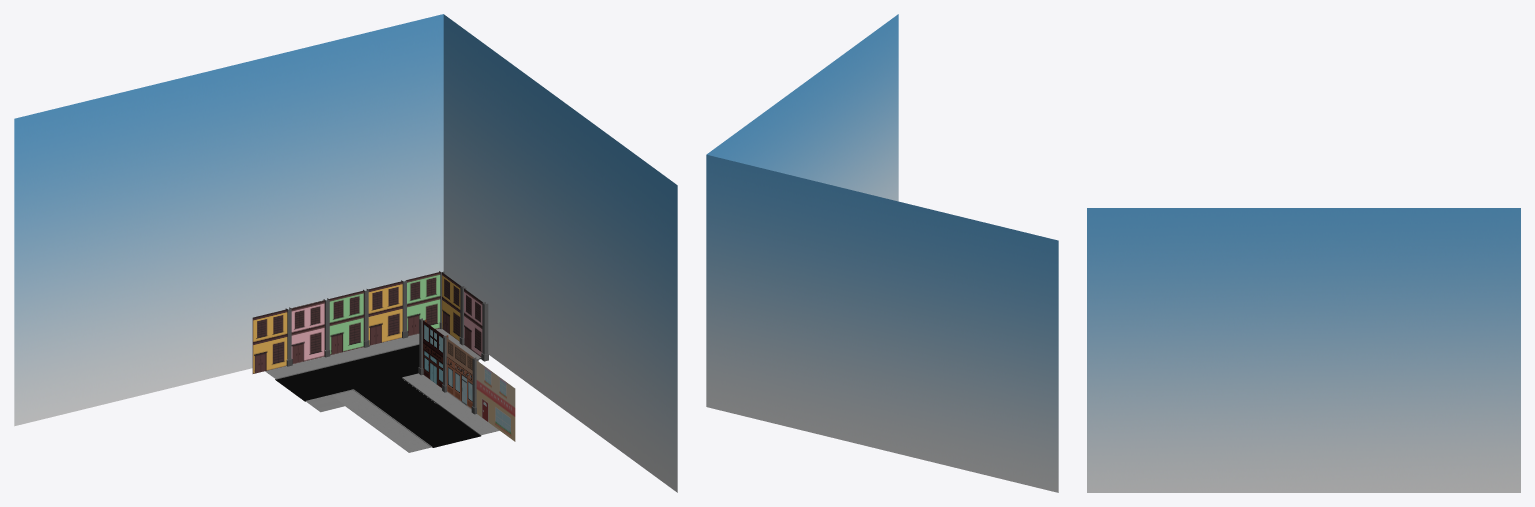
The model's file is cityMesh.gltf.
The picture shows the model from 3 angles, left to right: view 1: azimuth 30°, elevation 25°; view 2: azimuth 150°, elevation 25°; view 3: azimuth 270°, elevation 25°; orthographic projection. The views are drawn at different scales.
Visible parts, largest first — view 1: City; view 2: City; view 3: City.
Boxes of the visible parts, bbox=[...] form: City: bbox=[14, 14, 677, 492]; City: bbox=[706, 14, 1058, 492]; City: bbox=[1087, 208, 1520, 492].
Bounding box in the file's own units: 67.3 × 46.08 × 63.58.
